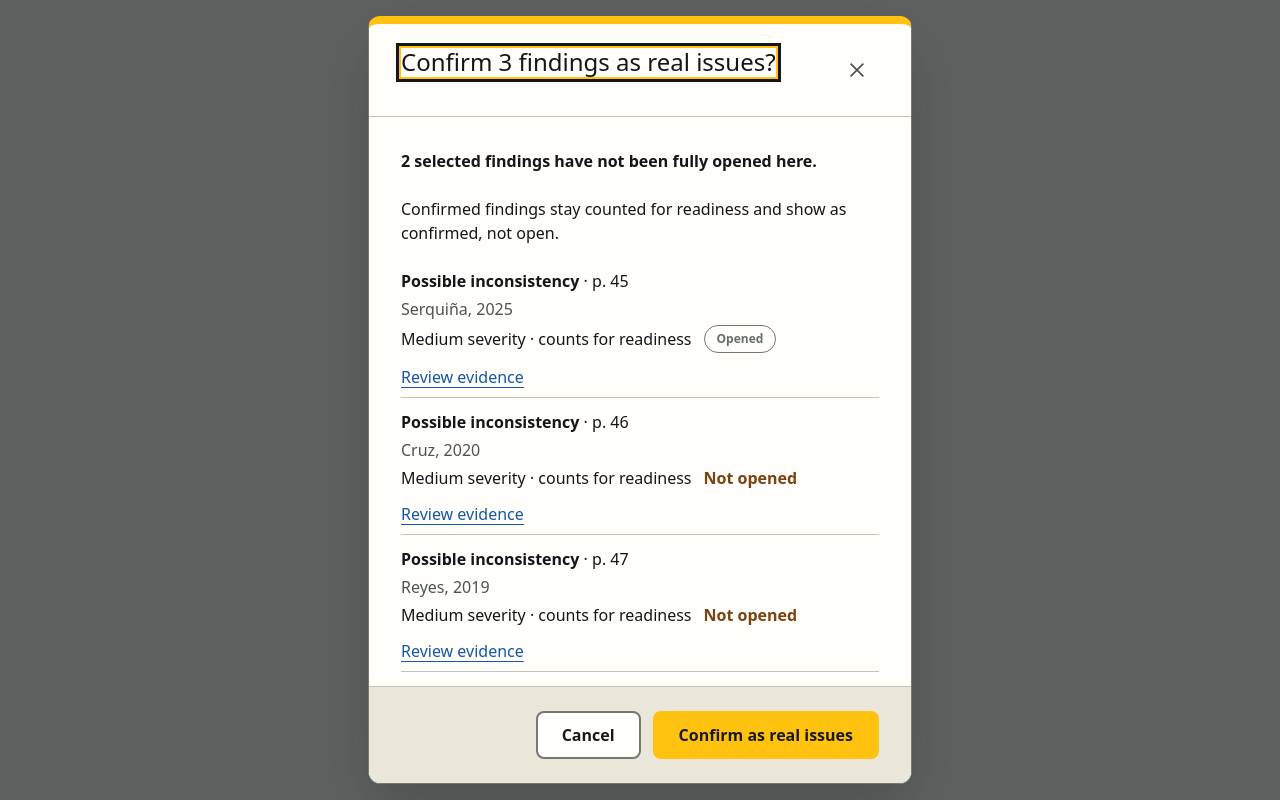
bulk confirm and dismiss › guards confirming unopened findings as firmly as dismissing them
Click the button "Confirm as real issues" at {"x": 766, "y": 735}, box x1=653 y1=711 x2=879 y2=759
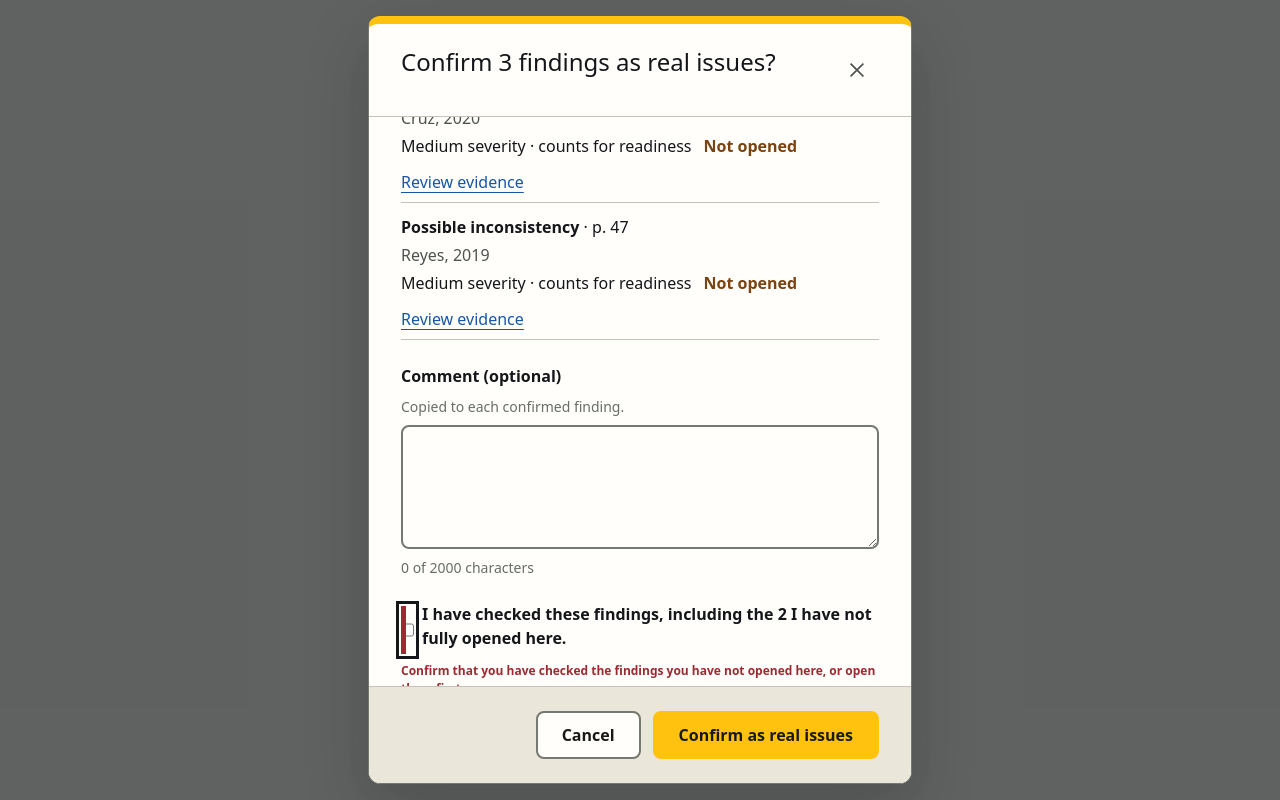
Result: the text "Confirm that you have checked the findings you have not opened here" is shown at x1=401 y1=662 x2=875 y2=686
